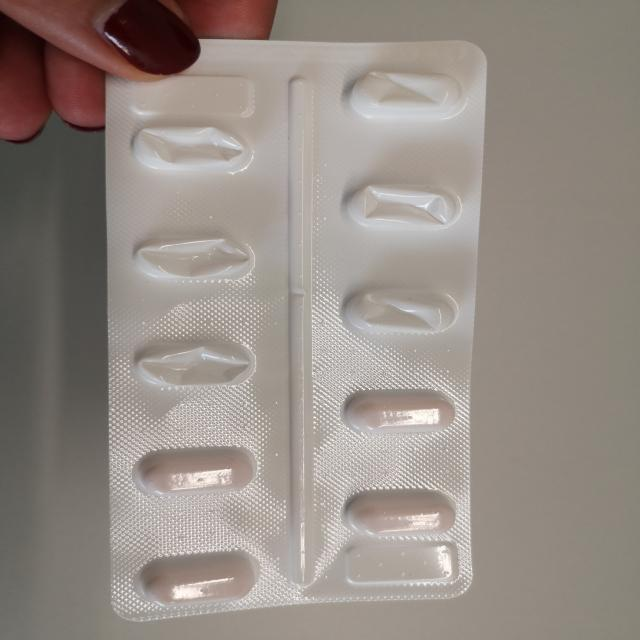Empty: (118, 226, 276, 295), (116, 332, 273, 394), (119, 116, 262, 184), (323, 277, 471, 342), (327, 63, 477, 127), (327, 172, 467, 238)
Pill: (129, 548, 271, 618), (127, 440, 269, 505), (325, 484, 469, 545), (322, 382, 462, 442)
